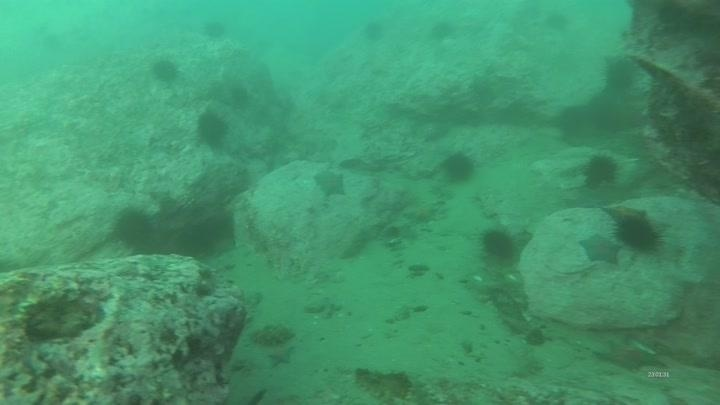echinus: (614, 211, 664, 254), (111, 205, 156, 250), (602, 53, 640, 93), (538, 3, 576, 43), (194, 108, 231, 149), (580, 152, 621, 189), (478, 226, 519, 263), (440, 149, 478, 186), (149, 55, 181, 85), (428, 18, 458, 44), (200, 17, 229, 42), (361, 18, 387, 44)
starfish: (590, 334, 664, 374), (577, 231, 623, 267), (311, 167, 349, 200), (601, 201, 648, 226), (401, 199, 442, 225), (265, 342, 297, 369)
